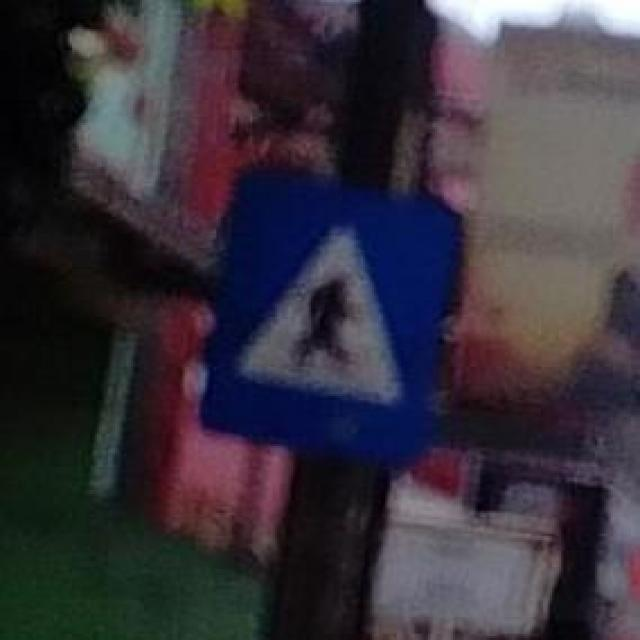traffic sign: (203, 169, 458, 459)
